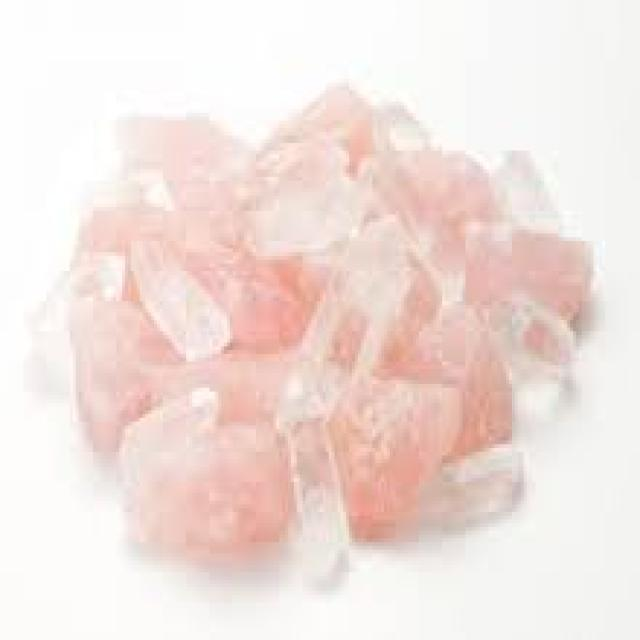Metamorphic: (55, 83, 585, 583)
